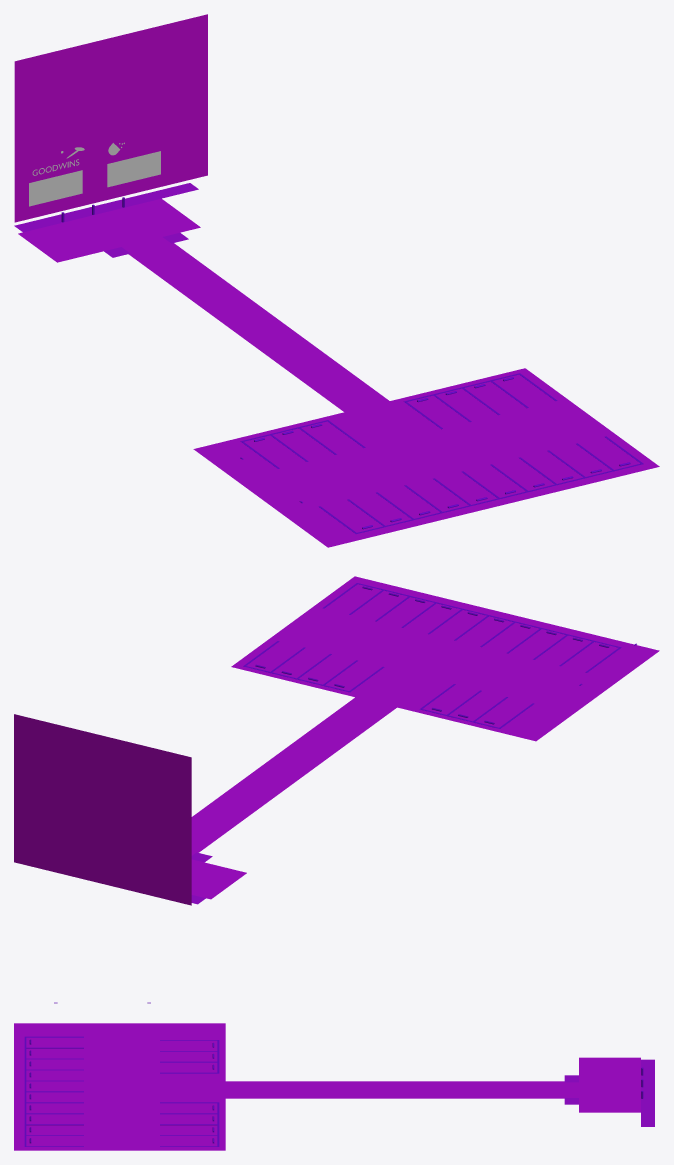
File: expurban_structure.gltf
3 renders of one model, top to bottom at view 1: azimuth 30°, elevation 25°; view 2: azimuth 150°, elevation 25°; view 3: azimuth 270°, elevation 25°, orthographic. The views are drawn at different scales.
Parts seen in each view (by area): view 1: Ground.003; view 2: Ground.003; view 3: Ground.003.
Part boxes in pixels (bbox=[...]): Ground.003: bbox=[14, 14, 659, 547]; Ground.003: bbox=[14, 576, 659, 905]; Ground.003: bbox=[14, 1002, 654, 1150].
Bounding box in the file's own units: 29.73 × 13.79 × 63.69.
